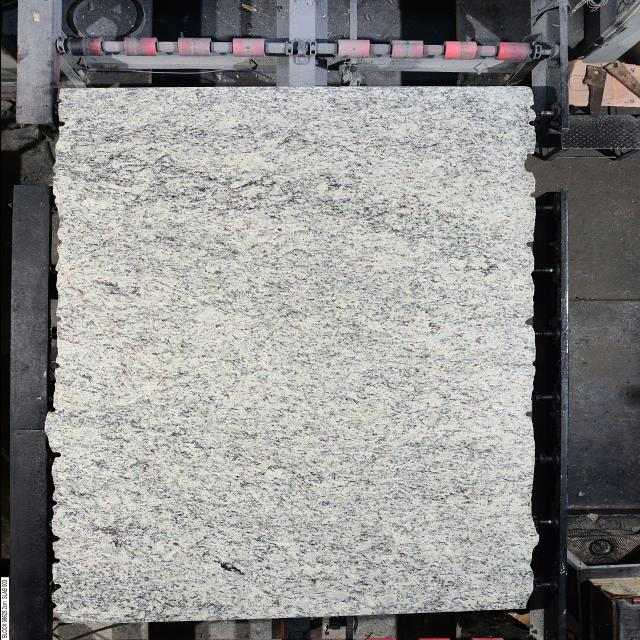chapa: (45, 88, 538, 621)
